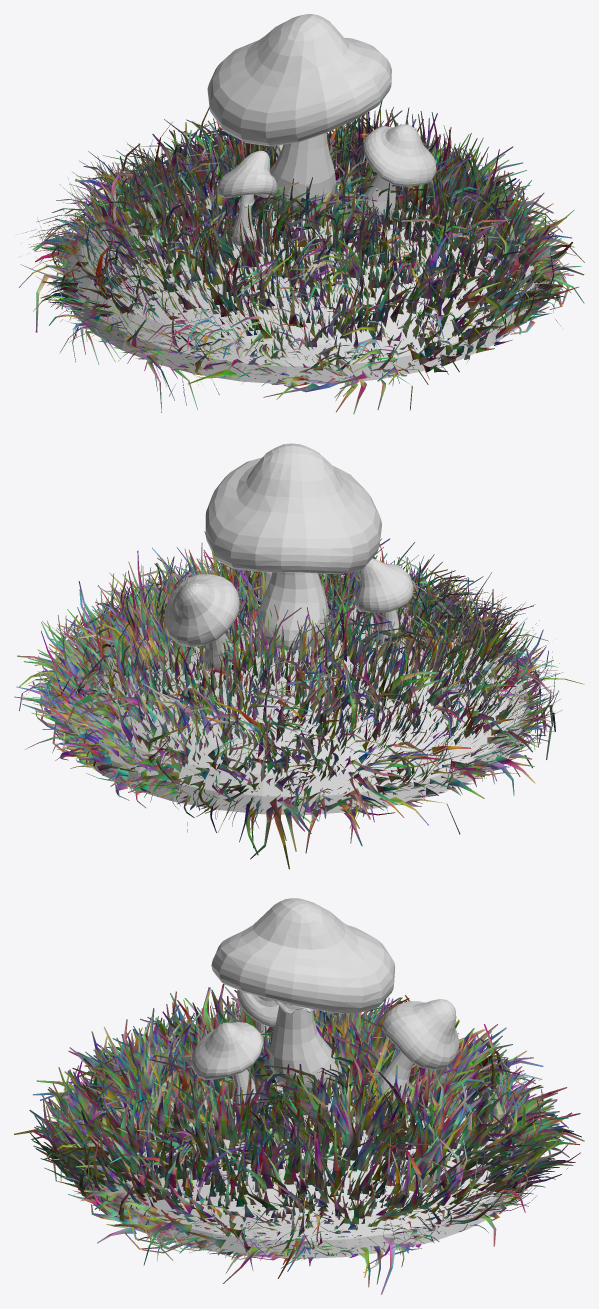
3 renders of one model, top to bottom at view 1: azimuth 30°, elevation 25°; view 2: azimuth 150°, elevation 25°; view 3: azimuth 270°, elevation 25°, orthographic. The views are drawn at different scales.
Parts seen in each view (by area): view 1: Object002_grass_0, Object003_grass_0, Sphere001_ground_0, cap_low_mushroom_0, cap_low002_mushroom_0, cap_low003_mushroom_0; view 2: Object002_grass_0, Sphere001_ground_0, Object003_grass_0, cap_low_mushroom_0, cap_low001_mushroom_0, cap_low003_mushroom_0; view 3: Object002_grass_0, cap_low_mushroom_0, Sphere001_ground_0, Object003_grass_0, cap_low001_mushroom_0, cap_low002_mushroom_0, cap_low003_mushroom_0.
Part boxes in pixels (x1=…): Object002_grass_0: x1=19, y1=100, x2=584, y2=414; Object003_grass_0: x1=32, y1=119, x2=584, y2=410; Sphere001_ground_0: x1=63, y1=166, x2=538, y2=384; cap_low_mushroom_0: x1=207, y1=14, x2=391, y2=212; cap_low002_mushroom_0: x1=360, y1=124, x2=436, y2=220; cap_low003_mushroom_0: x1=217, y1=150, x2=277, y2=245; Object002_grass_0: x1=14, y1=531, x2=584, y2=869; Sphere001_ground_0: x1=56, y1=589, x2=531, y2=814; Object003_grass_0: x1=25, y1=557, x2=555, y2=815; cap_low_mushroom_0: x1=205, y1=443, x2=381, y2=650; cap_low001_mushroom_0: x1=164, y1=574, x2=239, y2=672; cap_low003_mushroom_0: x1=355, y1=558, x2=413, y2=648; Object002_grass_0: x1=14, y1=984, x2=584, y2=1294; cap_low_mushroom_0: x1=211, y1=898, x2=394, y2=1091; Sphere001_ground_0: x1=71, y1=1043, x2=531, y2=1258; Object003_grass_0: x1=46, y1=998, x2=551, y2=1267; cap_low001_mushroom_0: x1=376, y1=999, x2=458, y2=1104; cap_low002_mushroom_0: x1=191, y1=1022, x2=262, y2=1110; cap_low003_mushroom_0: x1=236, y1=990, x2=278, y2=1049.
Size of the model in its own units: 38.99 by 23.57 by 40.17.
